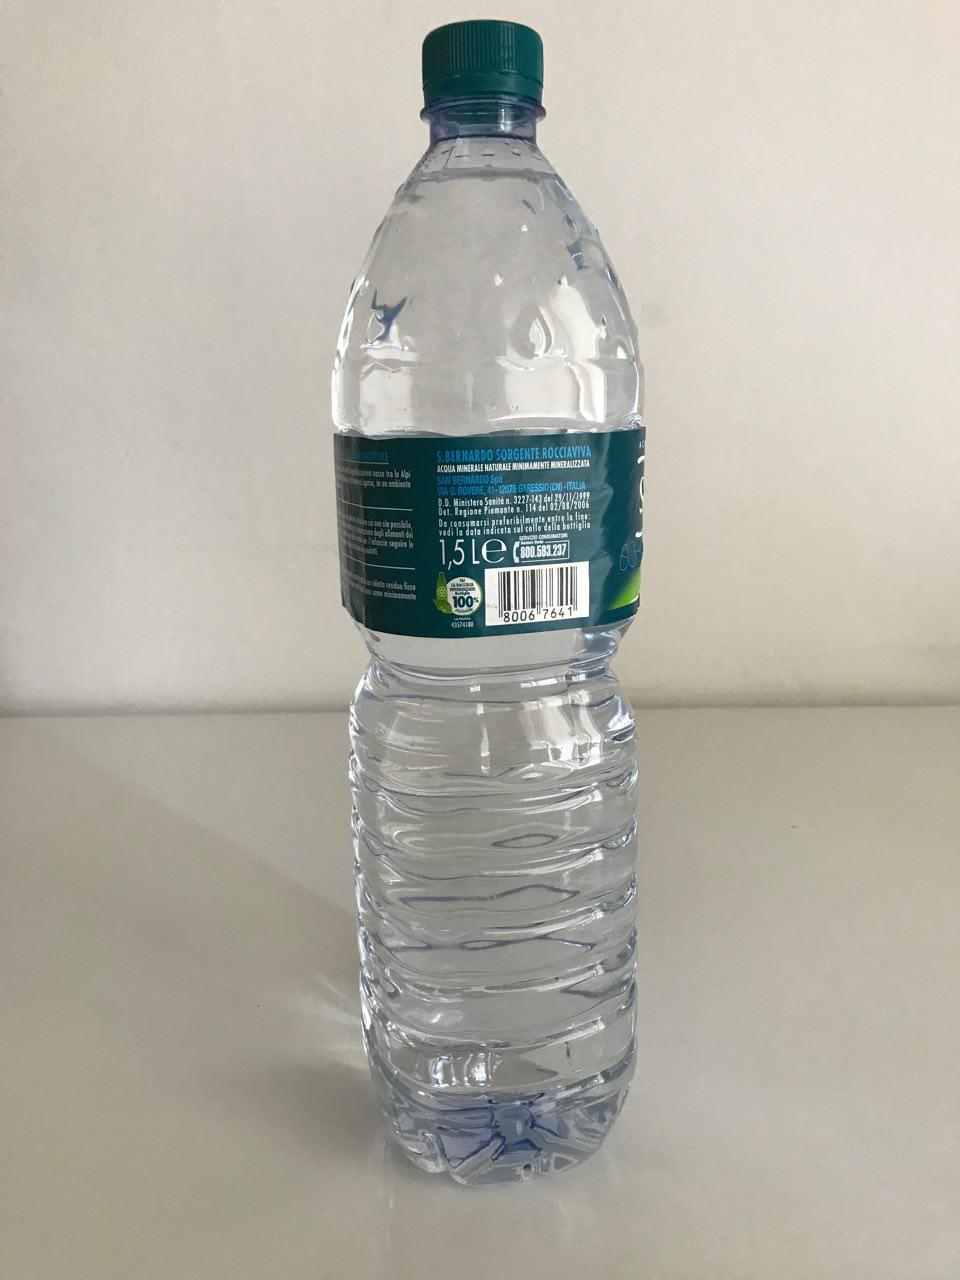san_bernardo: (328, 17, 649, 1190)
